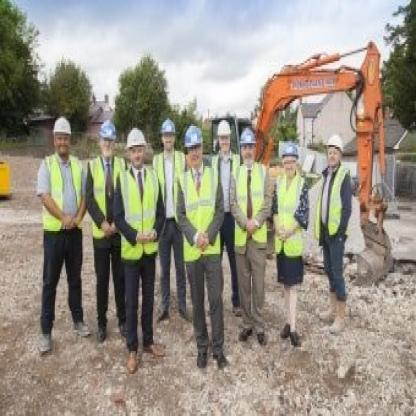person: (30, 105, 87, 357), (182, 120, 225, 366), (121, 120, 162, 372), (237, 115, 274, 366), (86, 105, 122, 349), (274, 120, 311, 344), (316, 124, 350, 332), (158, 109, 183, 330), (218, 101, 235, 330)
